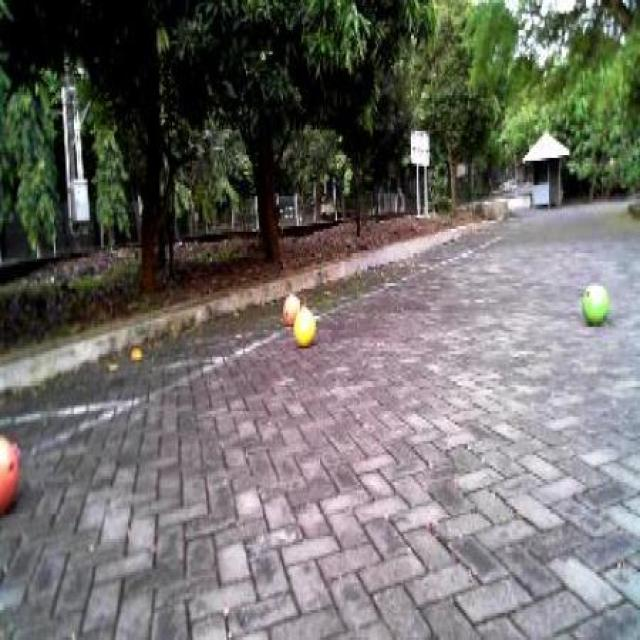buoy: (0, 422, 24, 520), (580, 276, 610, 331), (292, 305, 317, 351), (282, 286, 303, 327)
